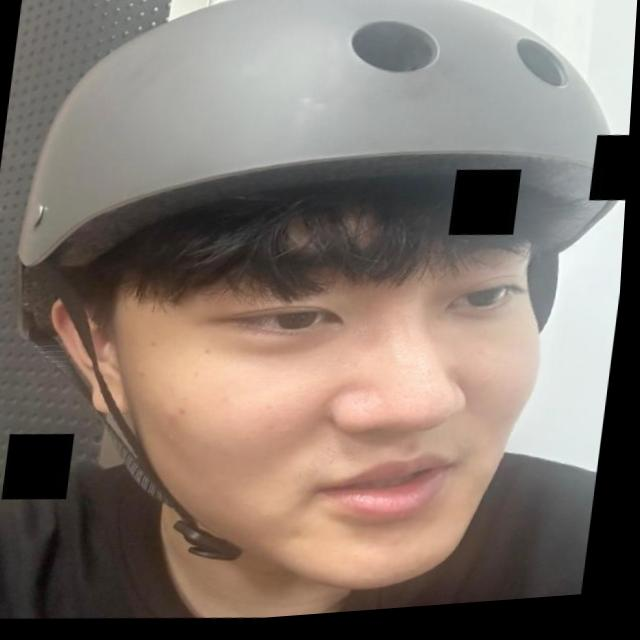helmet: (0, 0, 640, 632)
